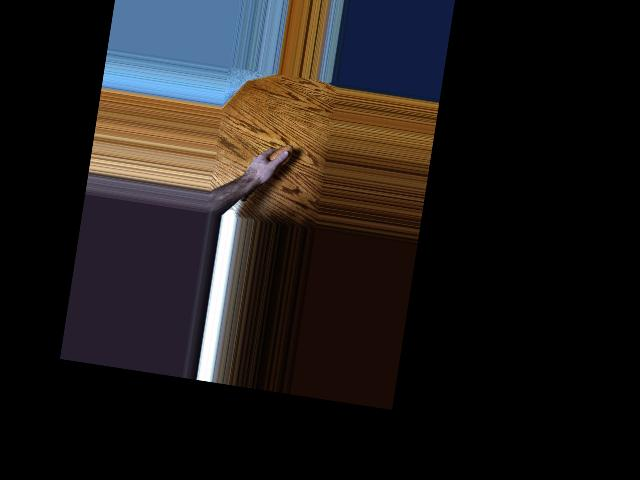sweet_potato: (235, 137, 294, 210)
